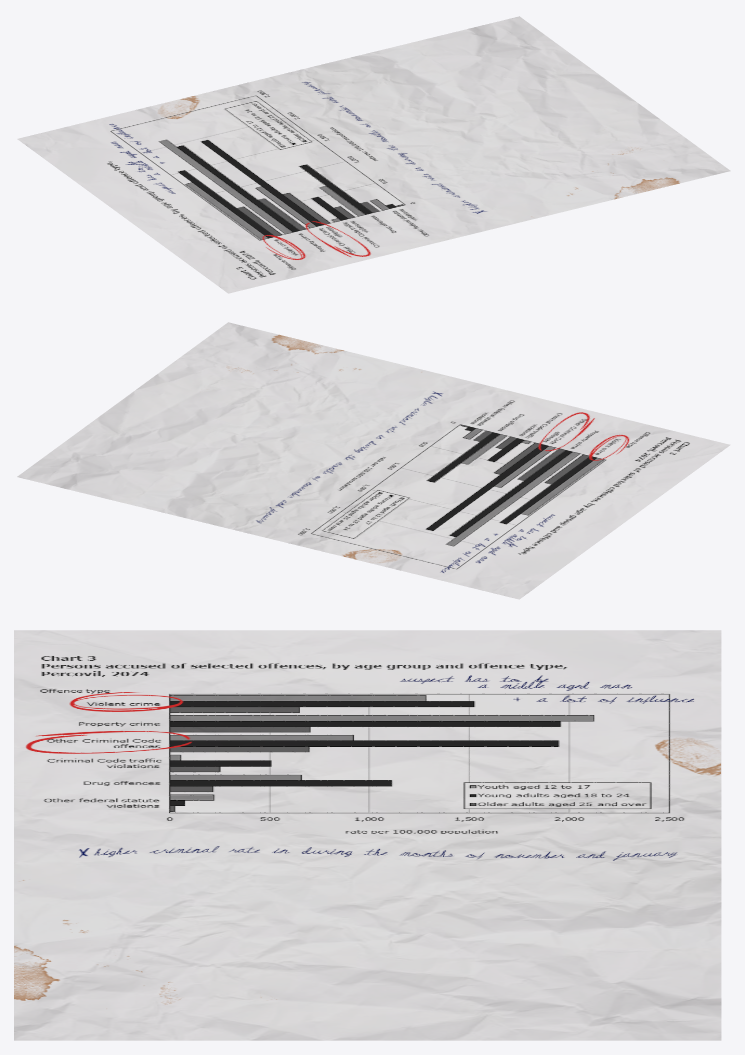
Rendered from Fake Evidence 1 NEW.fbx.
3 views of the same model, one above another, from view 1: azimuth 30°, elevation 25°; view 2: azimuth 150°, elevation 25°; view 3: azimuth 270°, elevation 25° (orthographic). The views are drawn at different scales.
Visible parts, largest first — view 1: Fake Evidence 1; view 2: Fake Evidence 1; view 3: Fake Evidence 1.
Boxes of the visible parts, box(x1,y1,x2,y2) form: Fake Evidence 1: box(17, 16, 730, 293); Fake Evidence 1: box(17, 322, 730, 599); Fake Evidence 1: box(14, 630, 721, 1040).
Size of the model in its own units: 252 by 3.03e-05 by 186.
